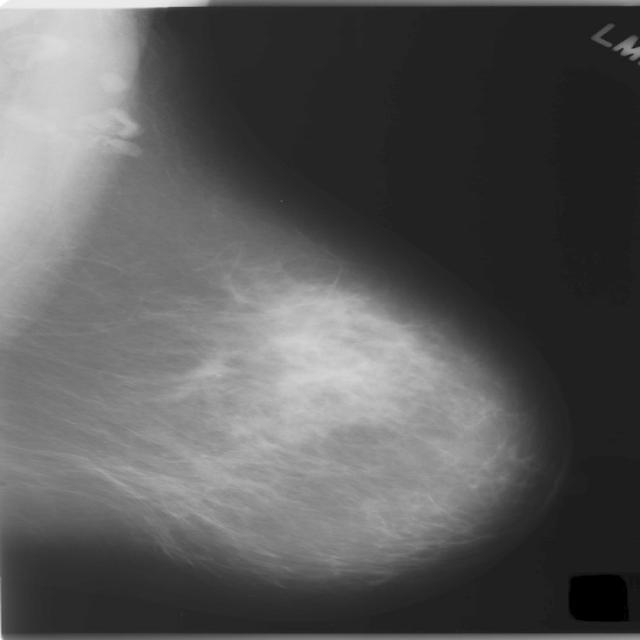tumour: (184, 353, 240, 383)
